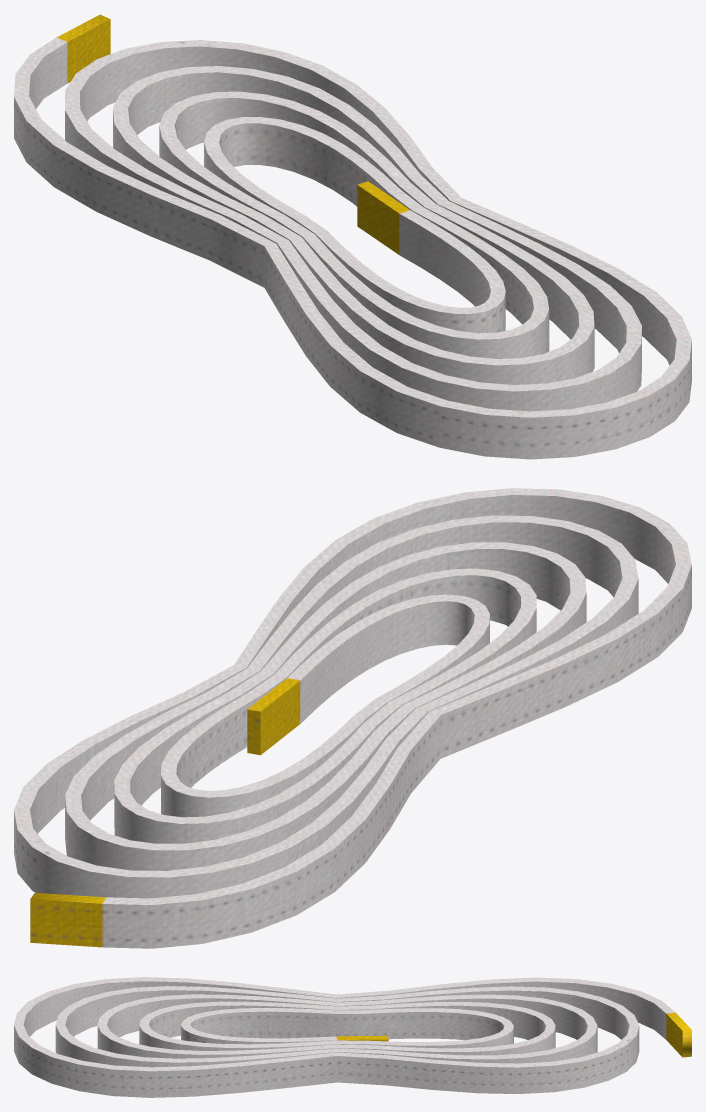
File: tool_Slingbelt_roll.fbx
3 views of the same model, one above another, from view 1: azimuth 30°, elevation 25°; view 2: azimuth 150°, elevation 25°; view 3: azimuth 270°, elevation 25° (orthographic). The views are drawn at different scales.
Parts seen in each view (by area): view 1: Slingbelt; view 2: Slingbelt; view 3: Slingbelt.
Boxes of the visible parts, x1,y1,x2,y2 form: Slingbelt: [14, 14, 691, 459]; Slingbelt: [14, 488, 691, 948]; Slingbelt: [14, 977, 691, 1097].
Size of the model in its own units: 0.2416 by 0.0317 by 0.7341.
